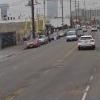Car: (75, 30, 97, 53)
